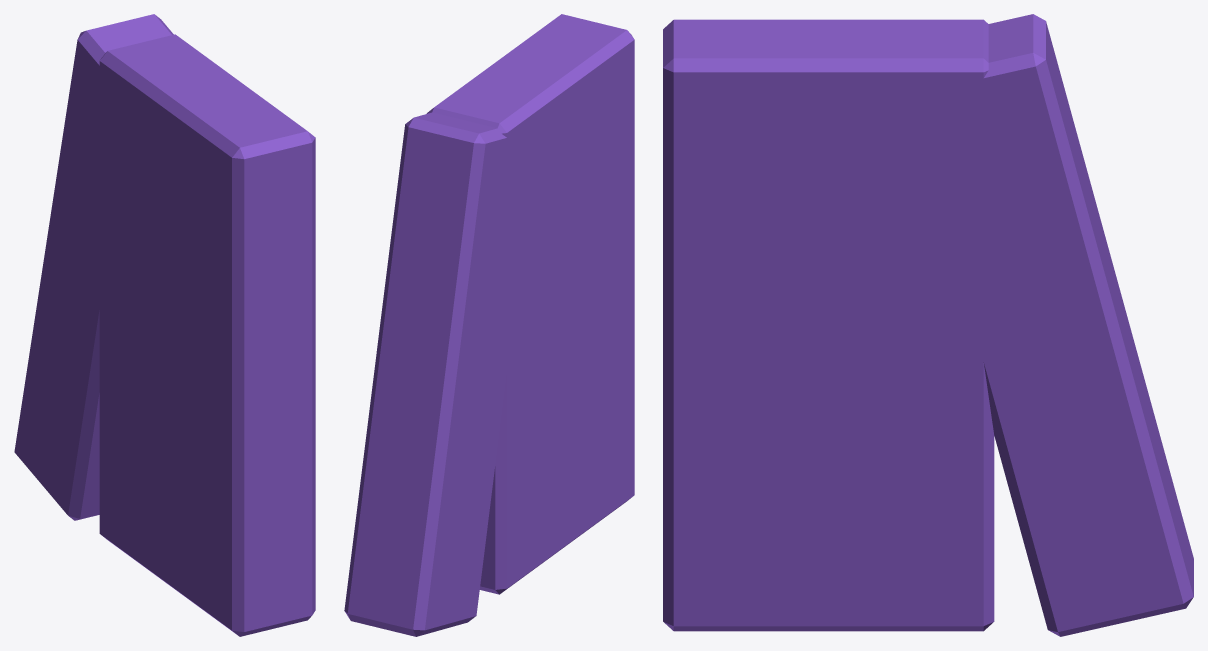
File: domino_curved.glb
3 views of the same model, side by side, from view 1: azimuth 30°, elevation 25°; view 2: azimuth 150°, elevation 25°; view 3: azimuth 270°, elevation 25° (orthographic). The views are drawn at different scales.
Visible parts, largest first — view 1: domino_curved; view 2: domino_curved; view 3: domino_curved.
Boxes of the visible parts, x1,y1,x2,y2 form: domino_curved: [14, 14, 315, 636]; domino_curved: [344, 14, 634, 636]; domino_curved: [663, 14, 1193, 636].
Bounding box in the file's own units: 0.075 × 0.4283 × 0.3526.
